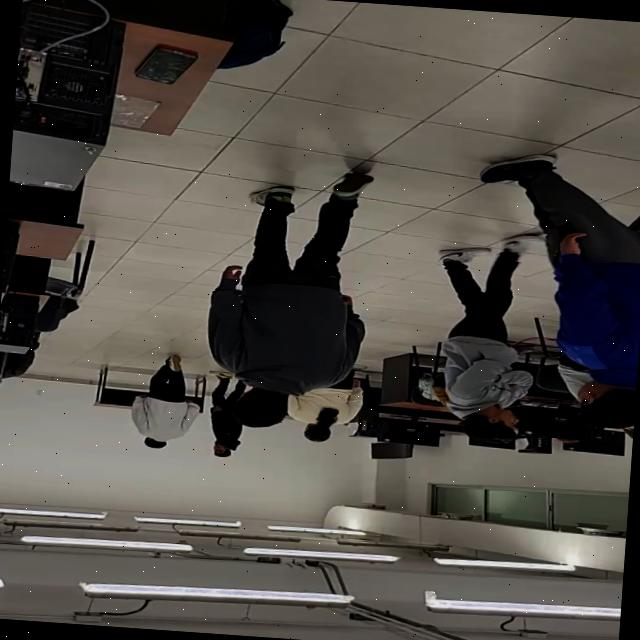Persona: (461, 127, 640, 431), (198, 162, 380, 434), (424, 229, 548, 445), (126, 350, 208, 450), (203, 368, 248, 459)
